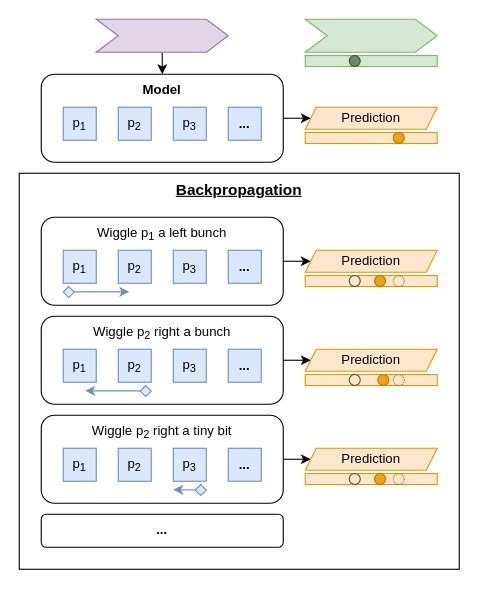
Image size: 479x589. Some labels were removed from this diagram. The centre of each missing label's shape, as x and y in pixels:
Expected: the point at 370,35
Input: the point at 161,35
